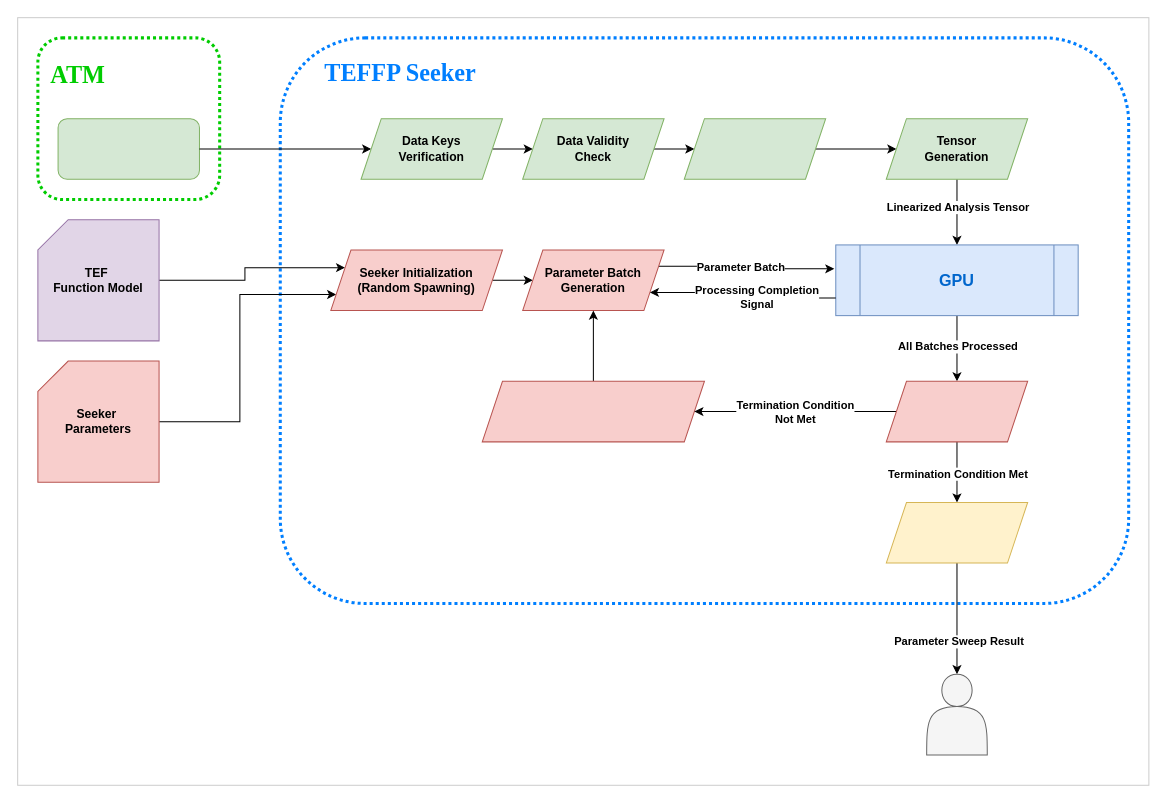
Some shapes in this 1167 by 803 pixel diagram are drawn without their labels. Each missing label, with the box of its shape:
Linearized Analysis: (57, 118, 199, 179)
Nan Gap Preprocessing: (683, 118, 826, 179)
Parameter Regeneration (Adam + Genetic Algorithm): (481, 380, 704, 442)
Parameter Sweep Result Save: (885, 501, 1028, 563)
Result Evaluation: (885, 380, 1028, 442)
